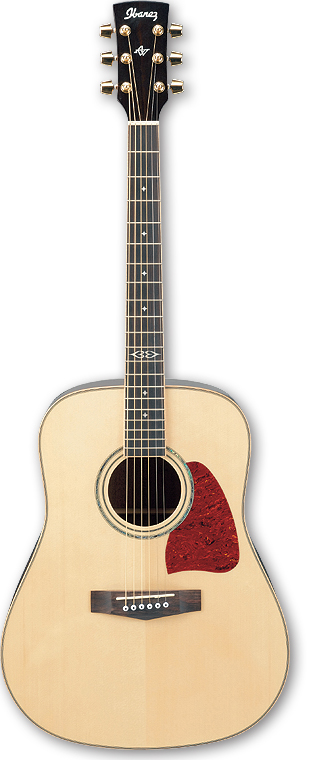guitar: (5, 1, 294, 750)
